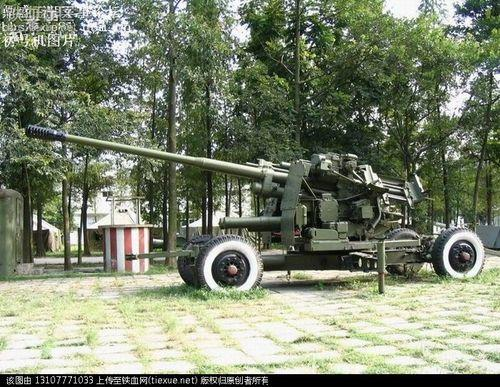MIL_SPG: (26, 126, 484, 291)
